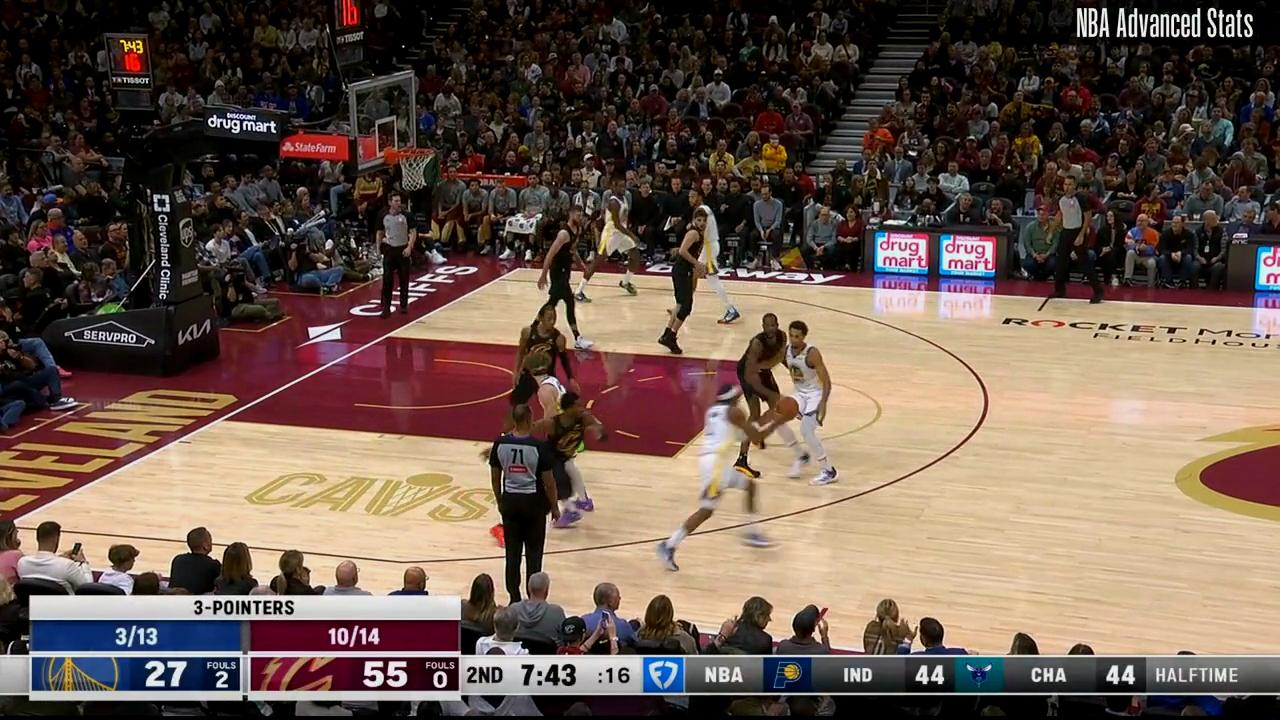basketball: (774, 393, 799, 420)
